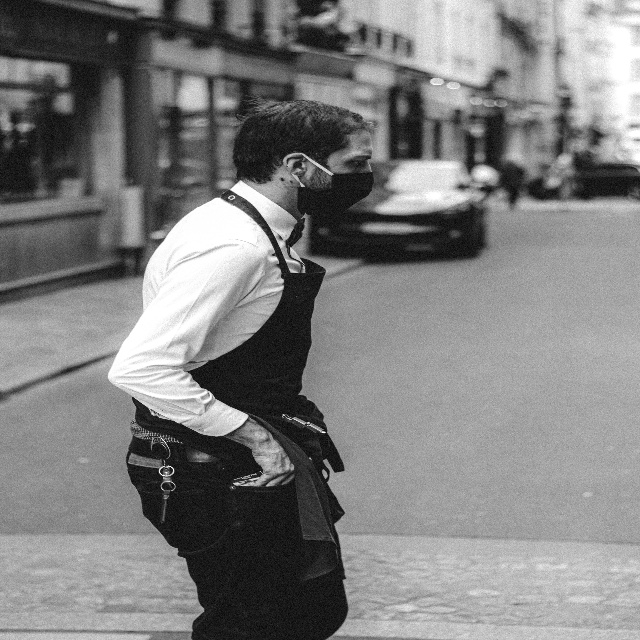Mascara: (291, 152, 374, 219)
Sin_guantes: (240, 431, 295, 487)
